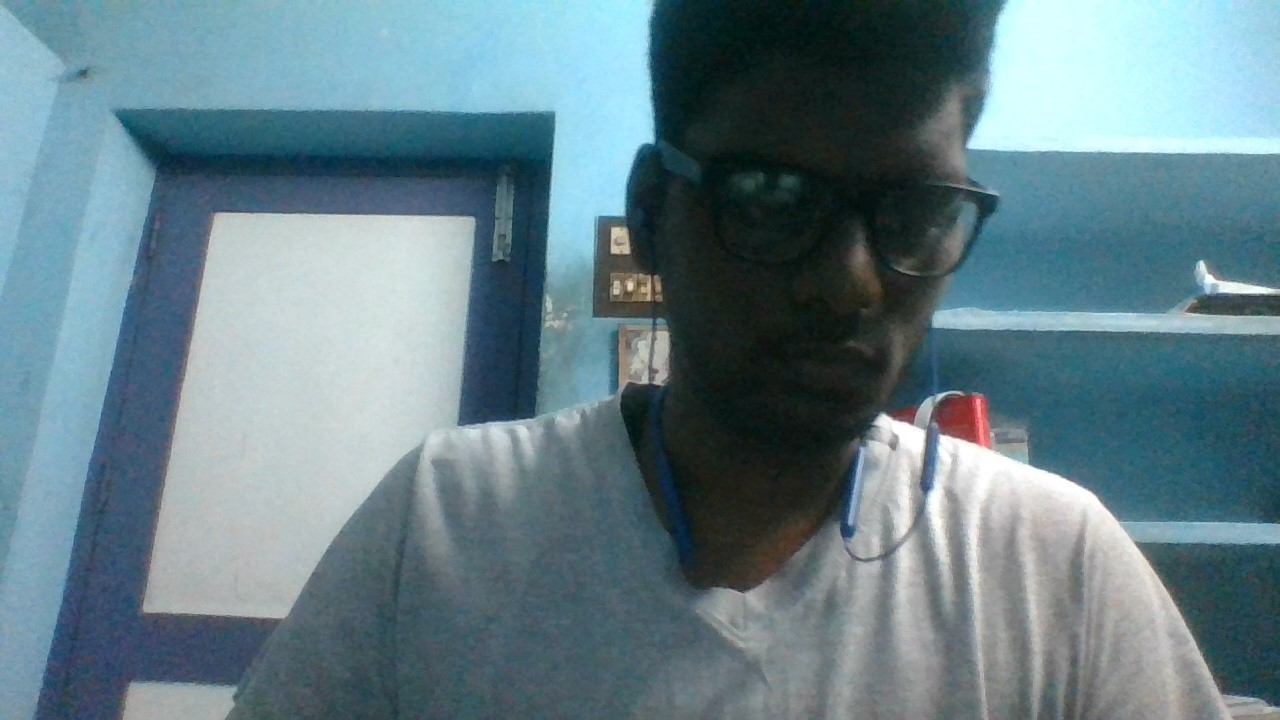person: (212, 7, 1226, 720)
